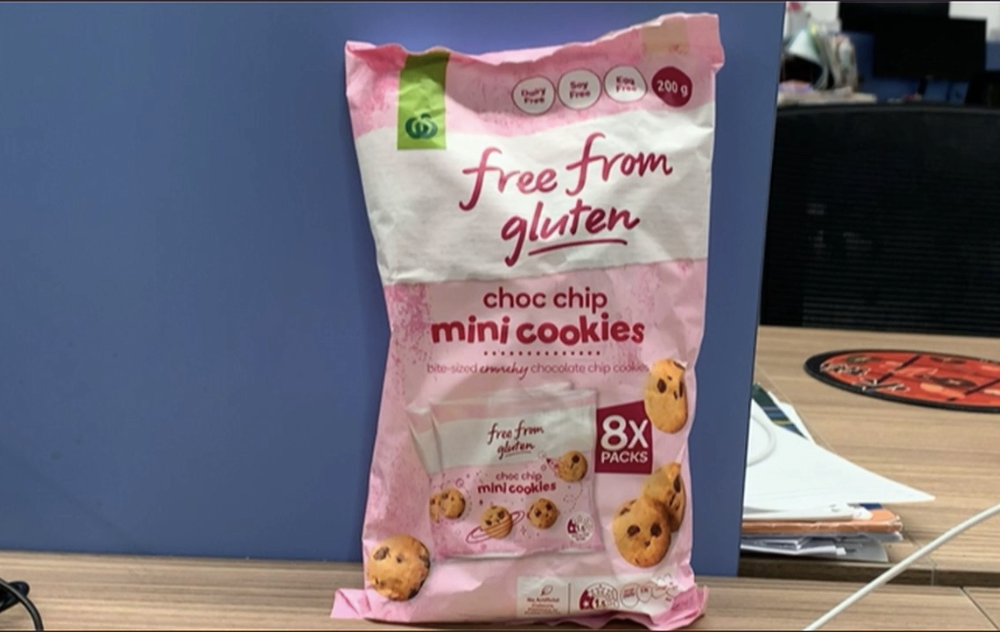cookies_150g: (387, 82, 688, 595)
